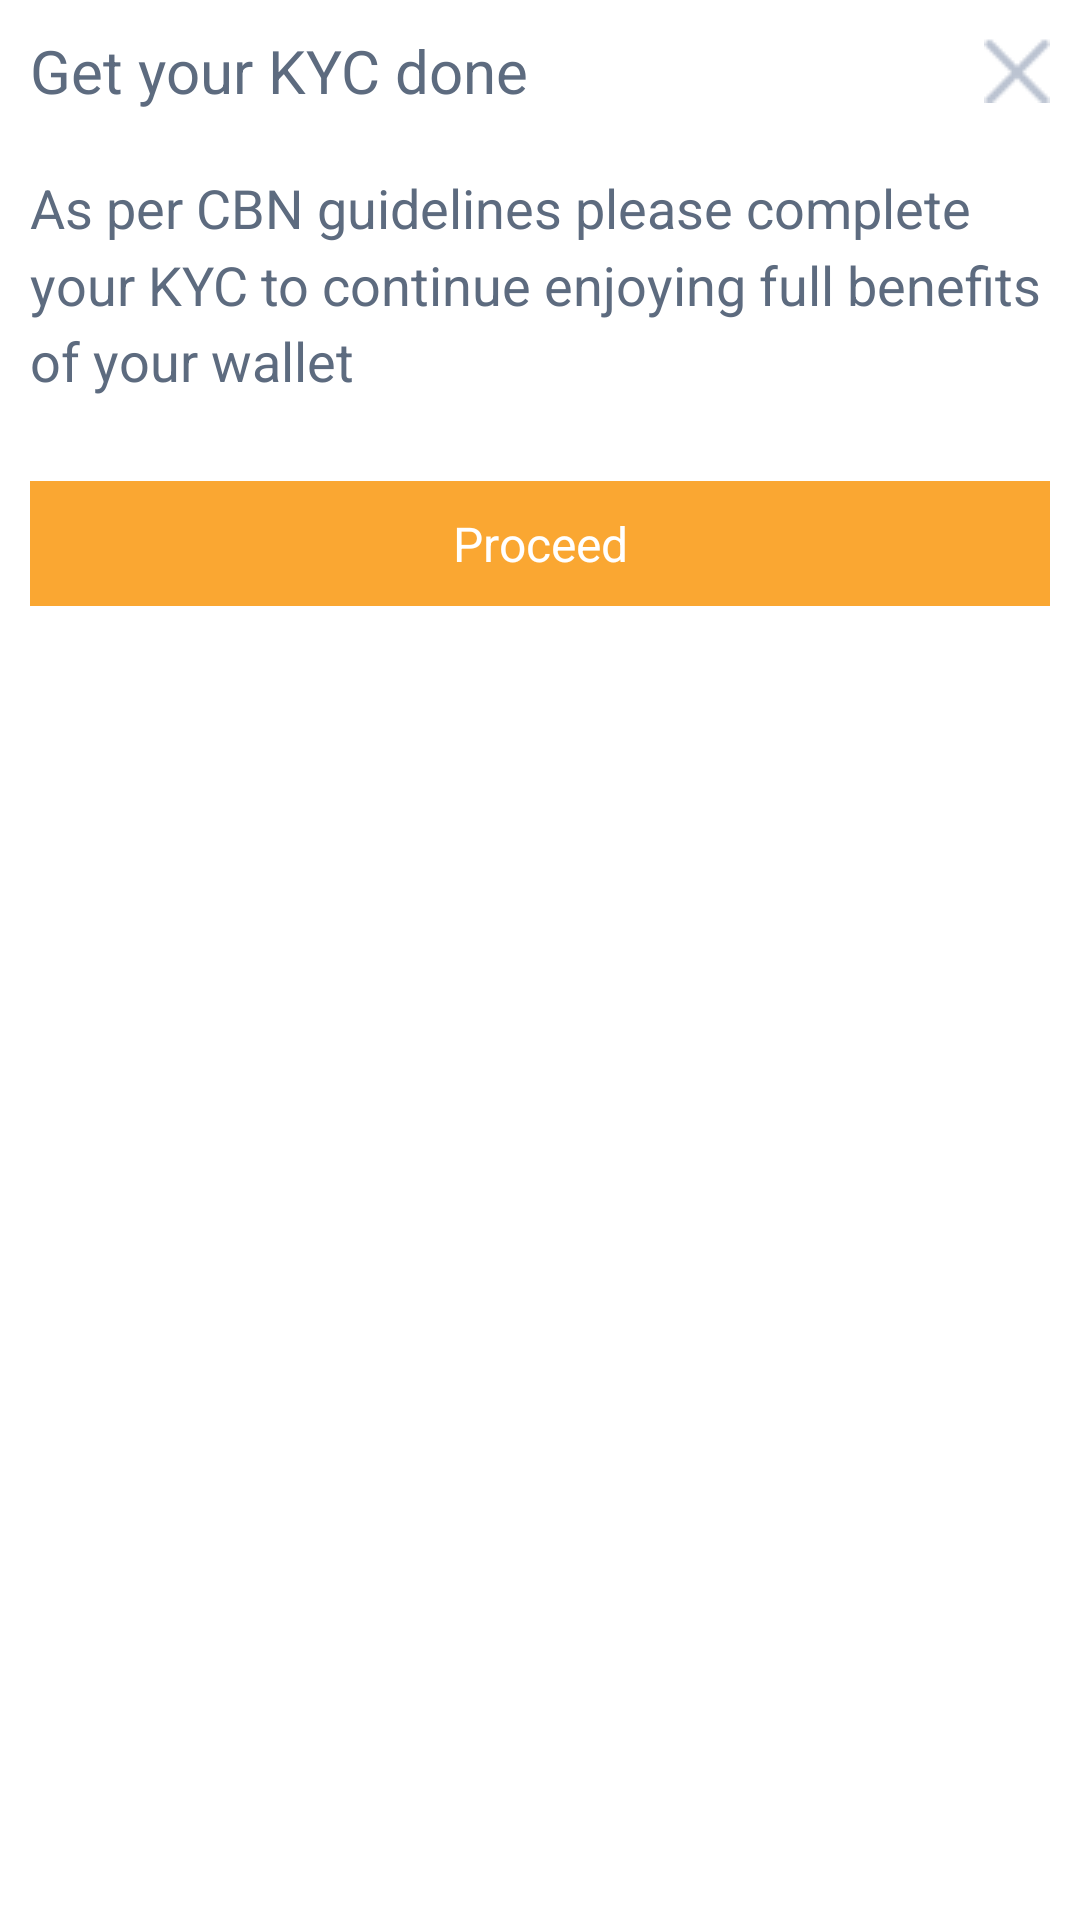

Screen size 1080 × 1920. Icon name, then its box in pixels as box(x1, y1, x2, y2):
cross: box(984, 40, 1050, 103)
